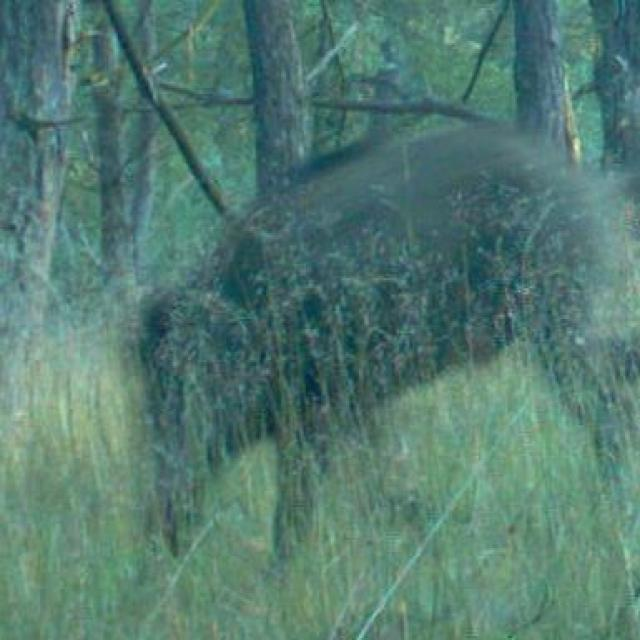pig: (132, 63, 640, 590)
